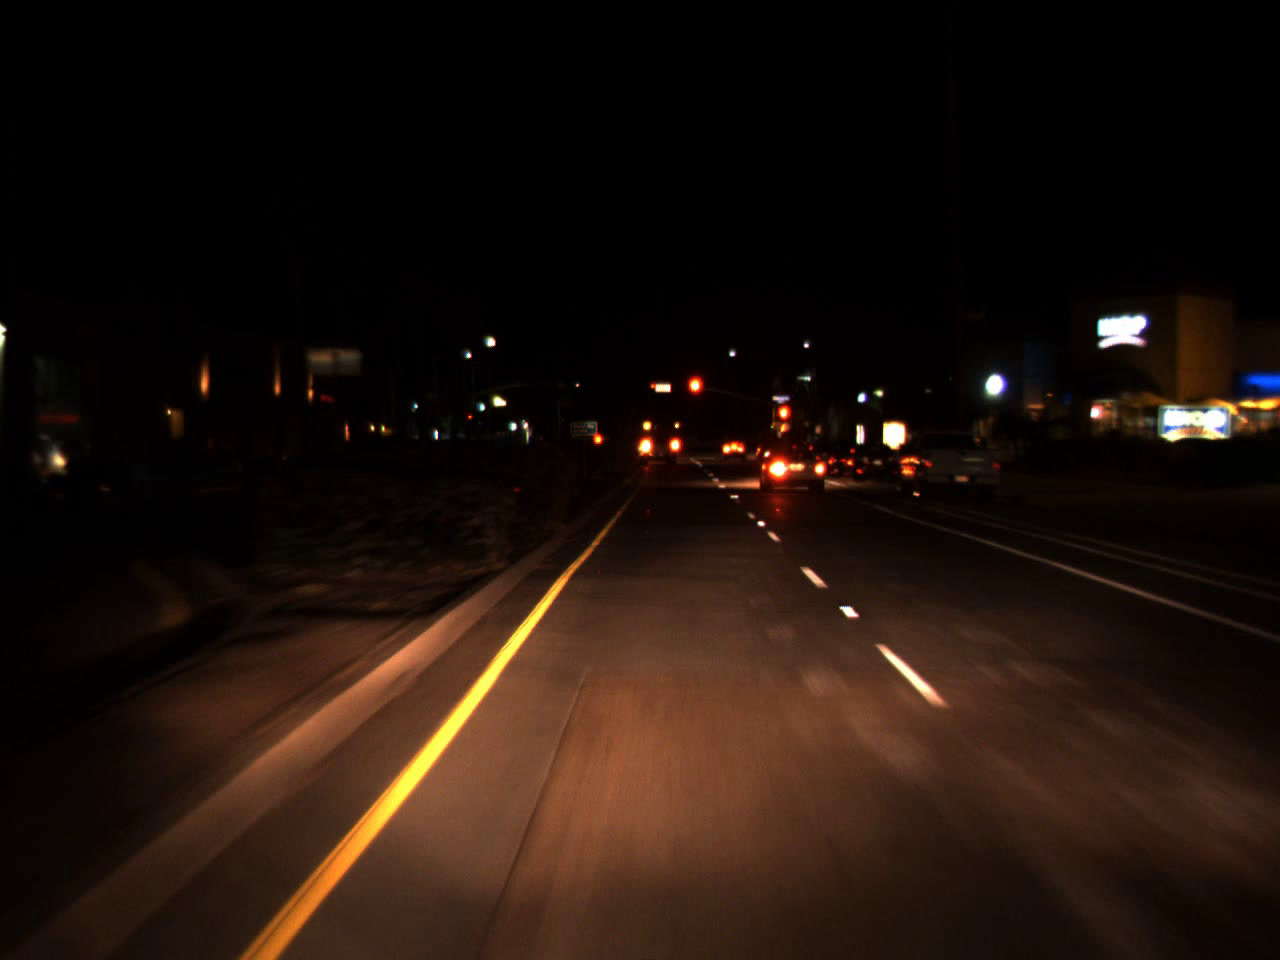stop: (685, 374, 704, 411), (775, 402, 793, 439), (649, 382, 656, 398)
